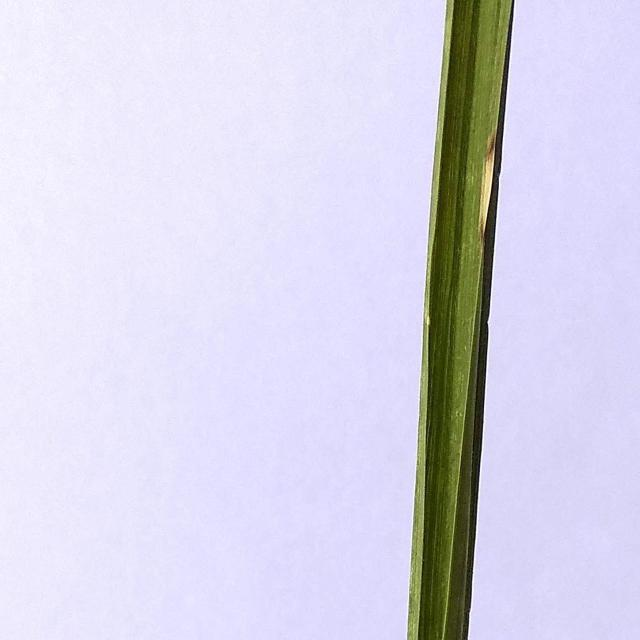Leaf blast: (362, 0, 546, 640)
